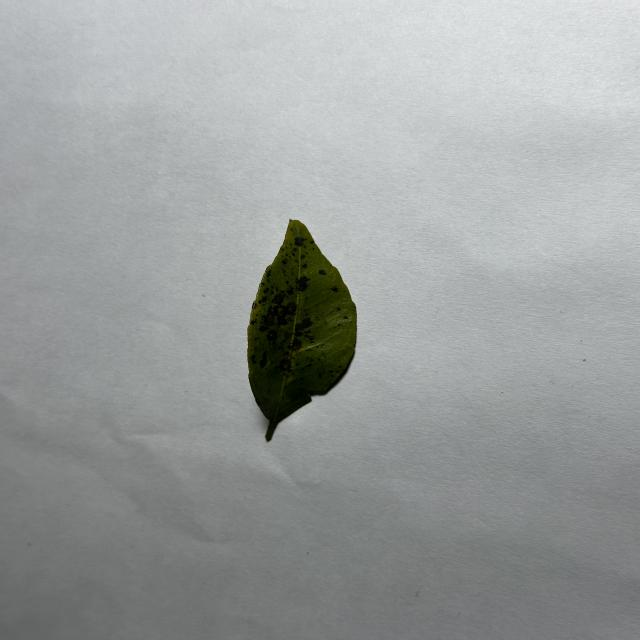sooty_mold: (248, 220, 356, 440)
